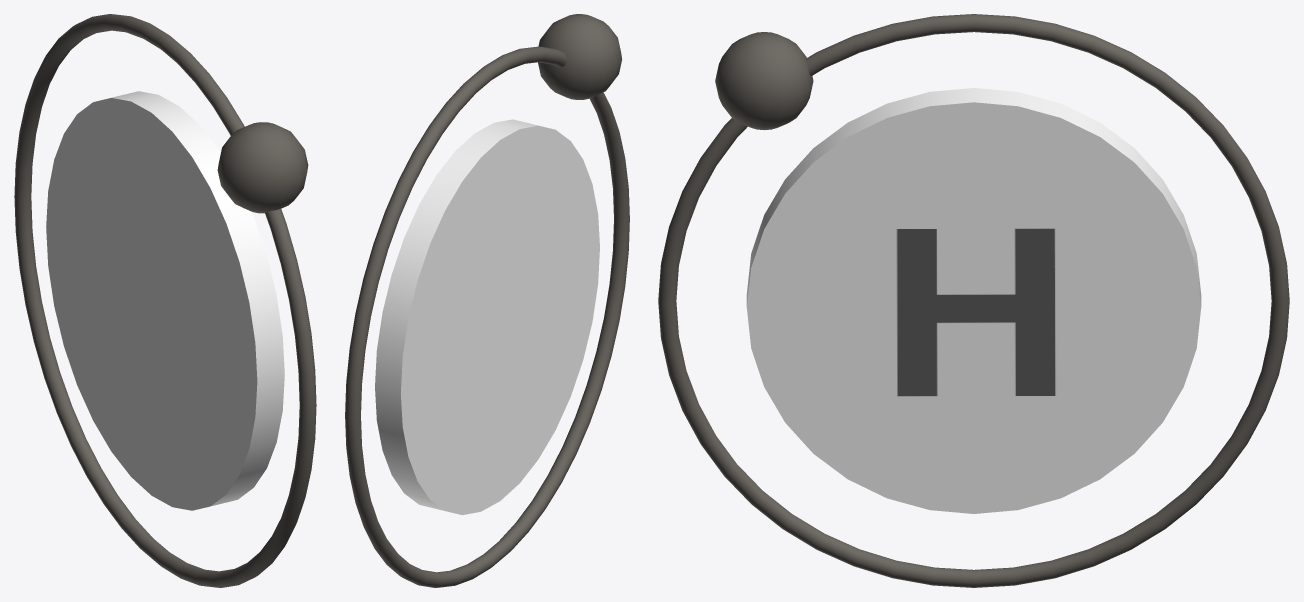
3 views of the same model, side by side, from view 1: azimuth 30°, elevation 25°; view 2: azimuth 150°, elevation 25°; view 3: azimuth 270°, elevation 25° (orthographic). The views are drawn at different scales.
Parts seen in each view (by area): view 1: m_h_v01, m_aro_v01, m_ele_v01; view 2: m_h_v01, m_aro_v01, m_ele_v01; view 3: m_h_v01, m_aro_v01, m_ele_v01.
Boxes of the visible parts, box(x1,y1,x2,y2) form: m_h_v01: box(46, 91, 284, 510); m_aro_v01: box(14, 14, 316, 587); m_ele_v01: box(217, 122, 308, 213); m_h_v01: box(375, 119, 599, 515); m_aro_v01: box(345, 46, 629, 587); m_ele_v01: box(538, 14, 622, 99); m_h_v01: box(746, 88, 1201, 513); m_aro_v01: box(658, 14, 1289, 587); m_ele_v01: box(715, 32, 813, 130).
Size of the model in its own units: 43.32 by 278 by 278.
